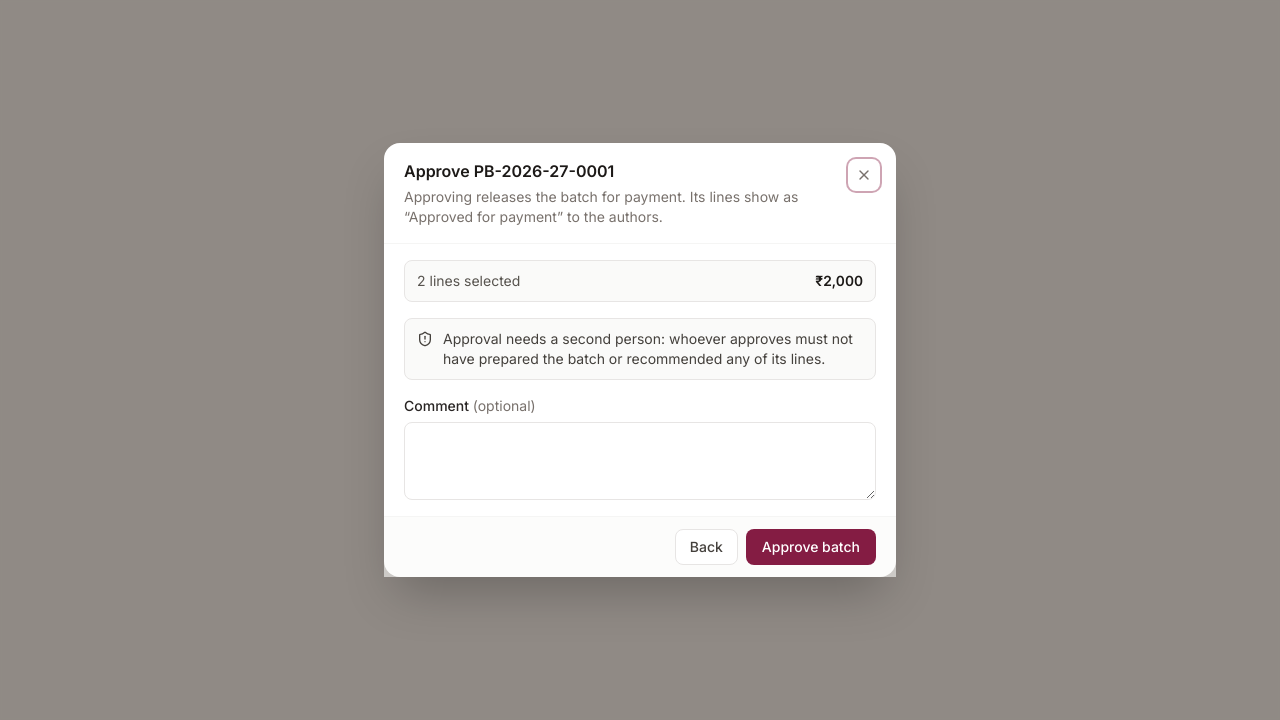
separation of duties on batch approval › explains a SEPARATION_OF_DUTIES rejection from the server instead of a generic error
Expected: the dialog "Approve PB-2026-27-0001" is shown, [384, 143, 896, 577]
Click the button "Approve batch" at (811, 547), box [746, 529, 876, 565]
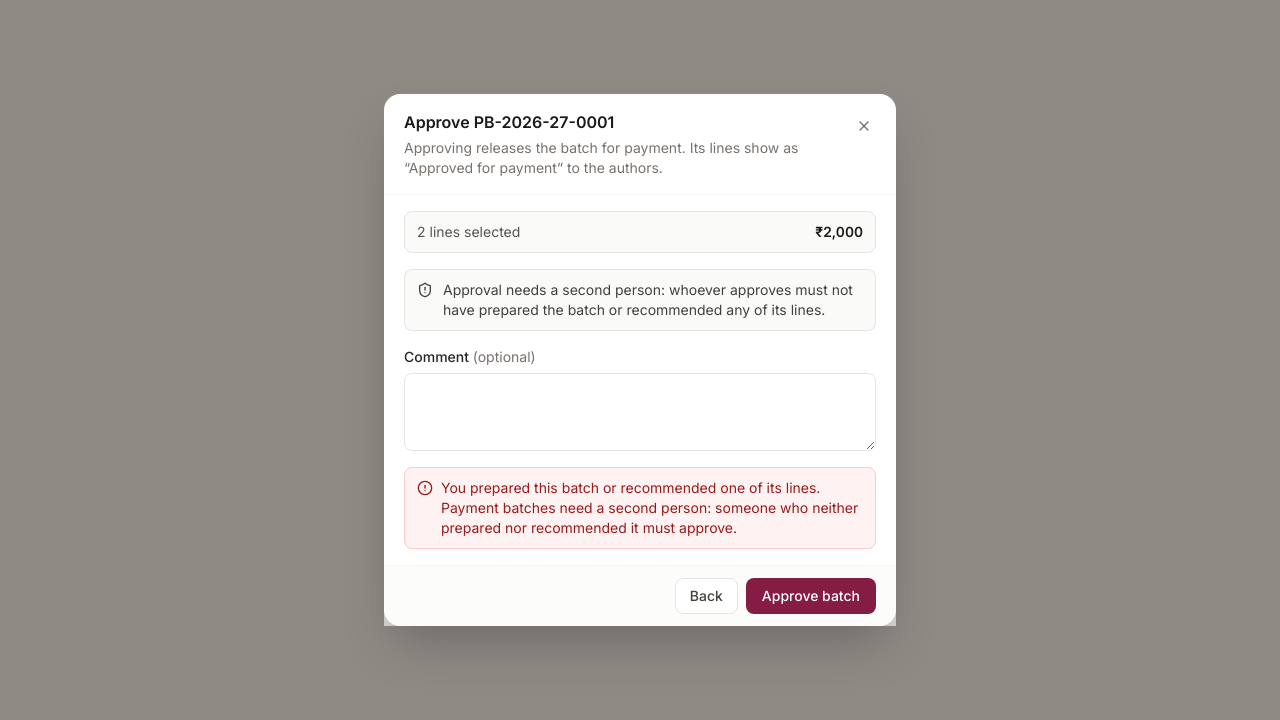
Expected: the message does not show "nope", [404, 467, 876, 549]
Expected: the message shows "Payment batches need a second person", [441, 479, 858, 536]
